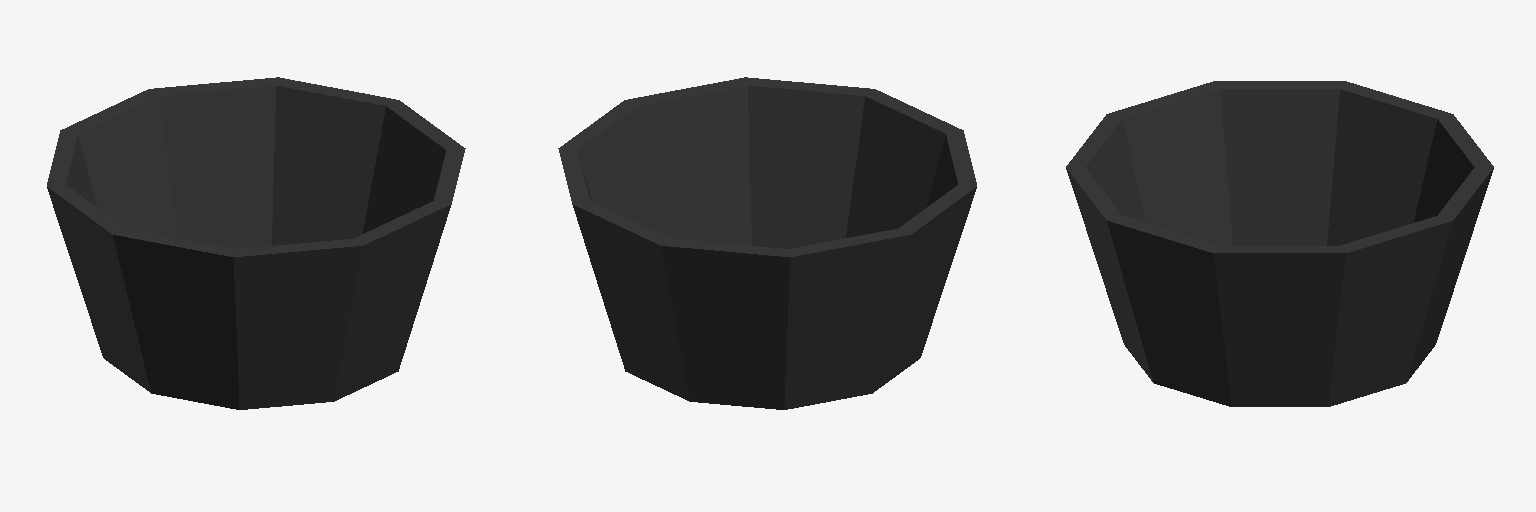
Rendered from Bowl_01.obj.
The picture shows the model from 3 angles: view 1: azimuth 30°, elevation 25°; view 2: azimuth 150°, elevation 25°; view 3: azimuth 270°, elevation 25°; orthographic projection.
Visible parts, largest first — view 1: Bowl_01_Circle.001; view 2: Bowl_01_Circle.001; view 3: Bowl_01_Circle.001.
Boxes of the visible parts, box(x1,y1,x2,y2) form: Bowl_01_Circle.001: box(47, 77, 465, 409); Bowl_01_Circle.001: box(558, 77, 976, 409); Bowl_01_Circle.001: box(1066, 81, 1493, 406).
Bounding box in the file's own units: 0.3156 × 0.1515 × 0.3319.